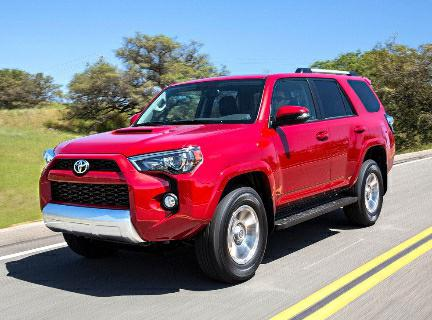丰田-4Runner: (34, 69, 397, 284)
